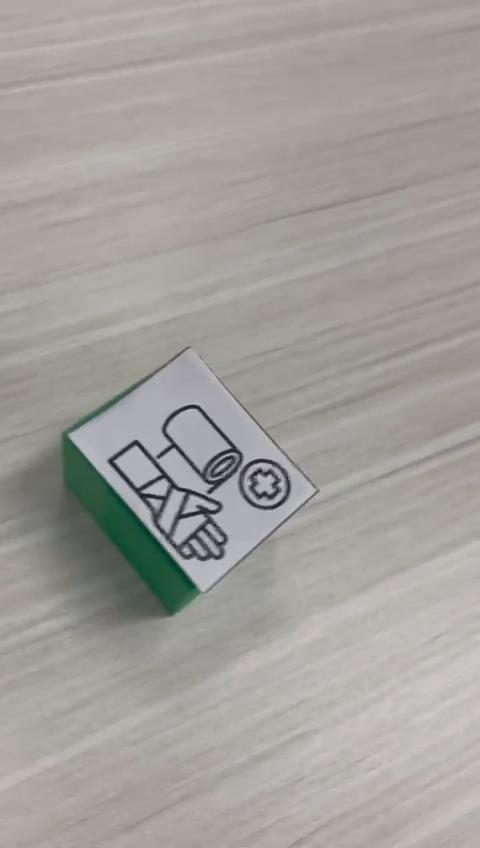Bandages: (63, 345, 320, 616)
